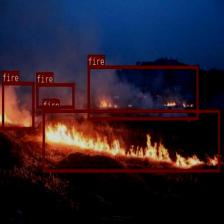fire: (43, 110, 220, 171), (87, 65, 198, 119), (2, 82, 34, 129), (36, 83, 74, 108)
